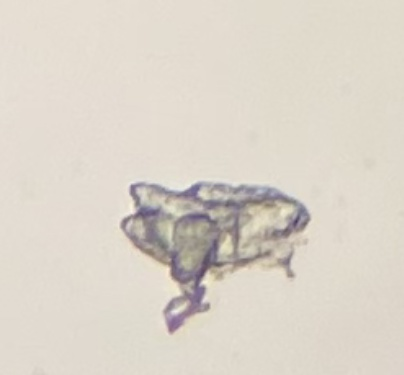microplastic: (120, 183, 310, 334)
